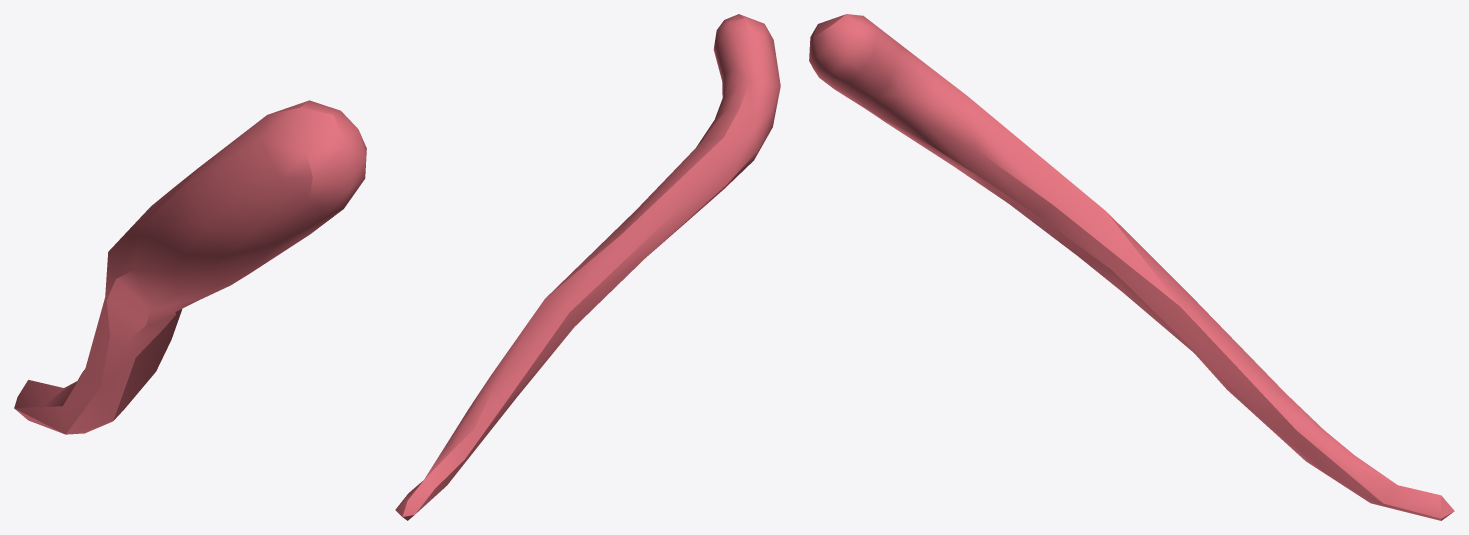
File: fma49822_fj5063.glb
3 renders of one model, left to right at view 1: azimuth 30°, elevation 25°; view 2: azimuth 150°, elevation 25°; view 3: azimuth 270°, elevation 25°, orthographic. The views are drawn at different scales.
Visible parts, largest first — view 1: FMA49822_FJ5063; view 2: FMA49822_FJ5063; view 3: FMA49822_FJ5063.
Part boxes in pixels (x1=…): FMA49822_FJ5063: x1=14, y1=100, x2=366, y2=434; FMA49822_FJ5063: x1=395, y1=14, x2=780, y2=520; FMA49822_FJ5063: x1=809, y1=14, x2=1454, y2=520.
Bounding box in the file's own units: 0.00323 × 0.00678 × 0.00891.
